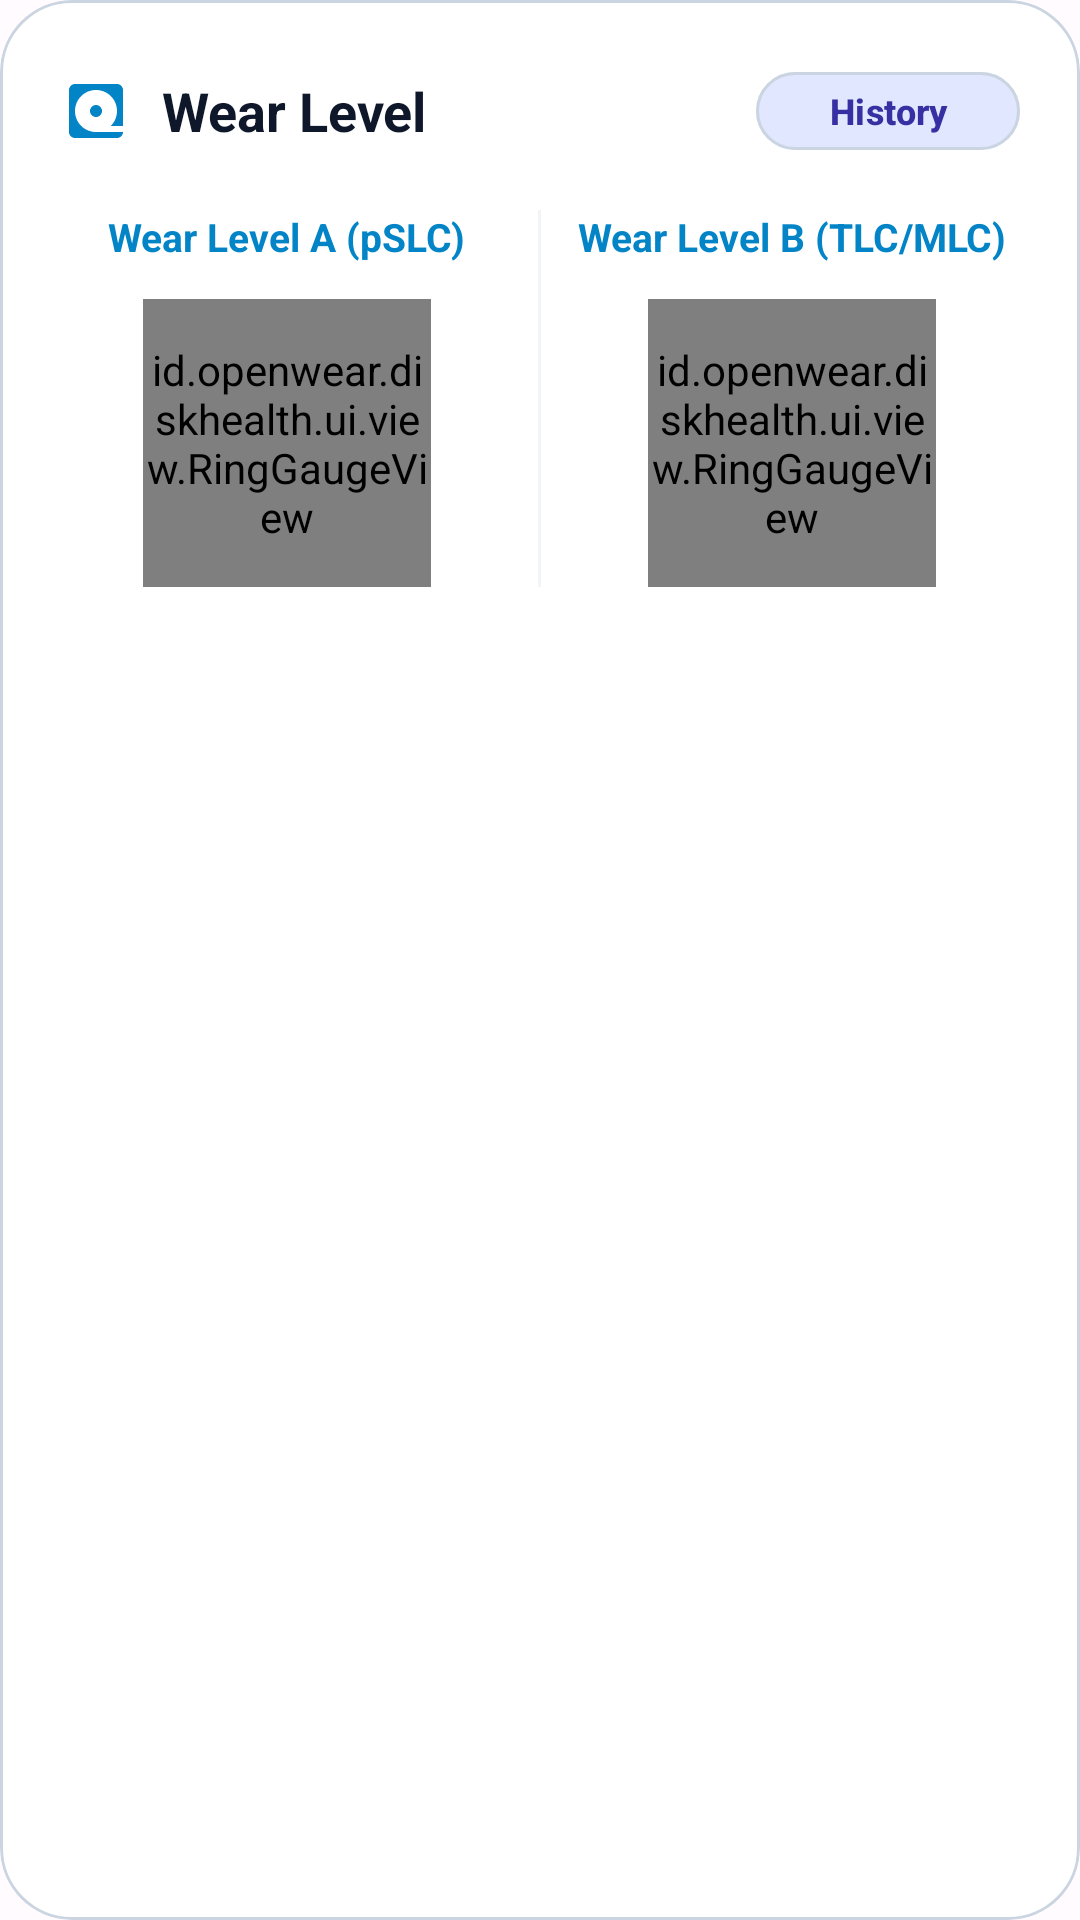

Icons on this 1080 × 1920 Android screen, each with its box as Rect(x1, y1, x2, y2):
disk health: Rect(69, 84, 123, 138)
